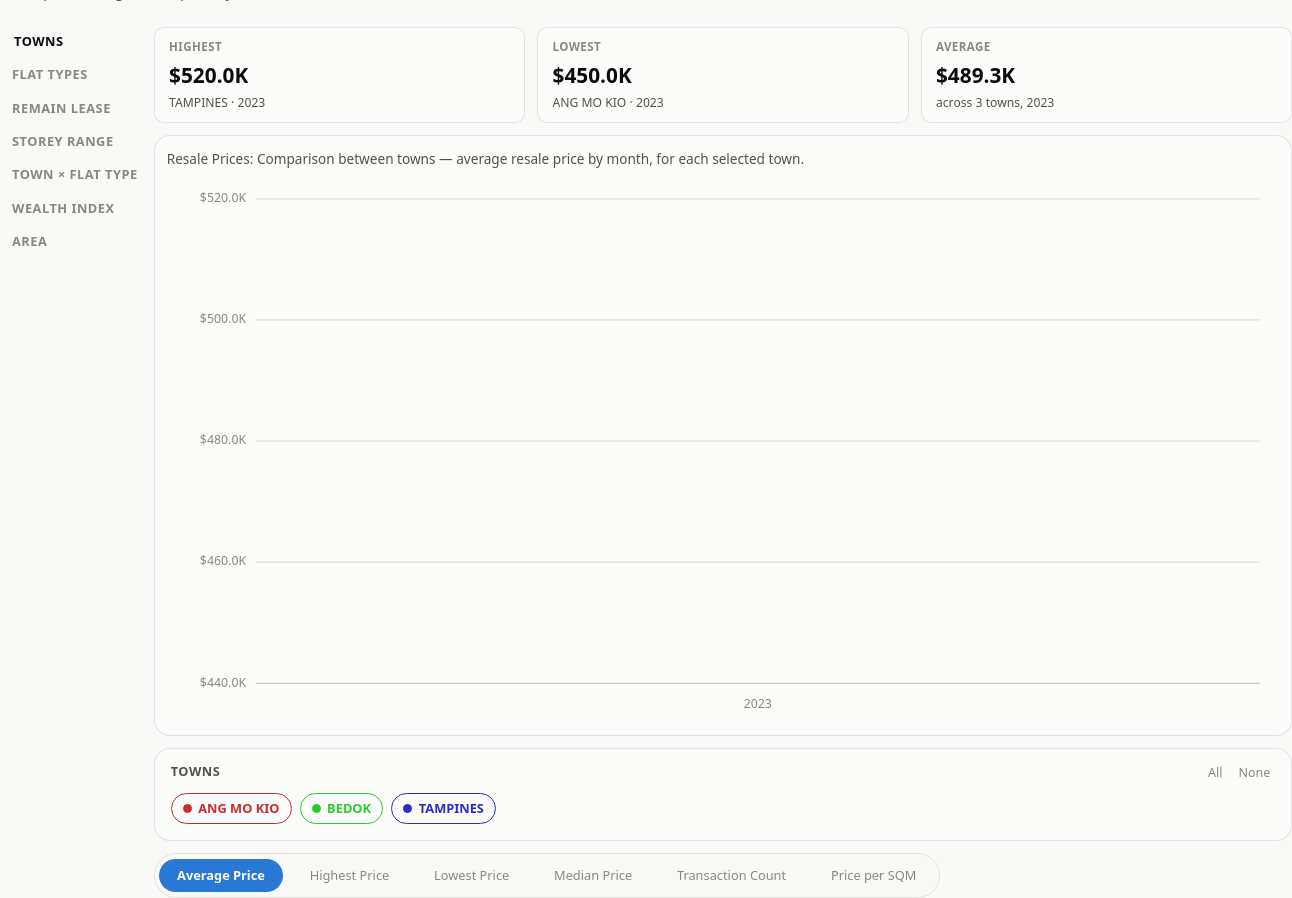
Scenario: InsightsPage › switches the Towns chart to the highest price view via the metric toggle
(page scrolled)
Expected: the button "BEDOK" is shown, [300,793,383,824]
Expected: the picture named "average resale price comparison between towns" is shown, [167,179,1279,723]
Click the button "Highest Price": coordinates (349, 876) [292,859,407,892]
(page scrolled)
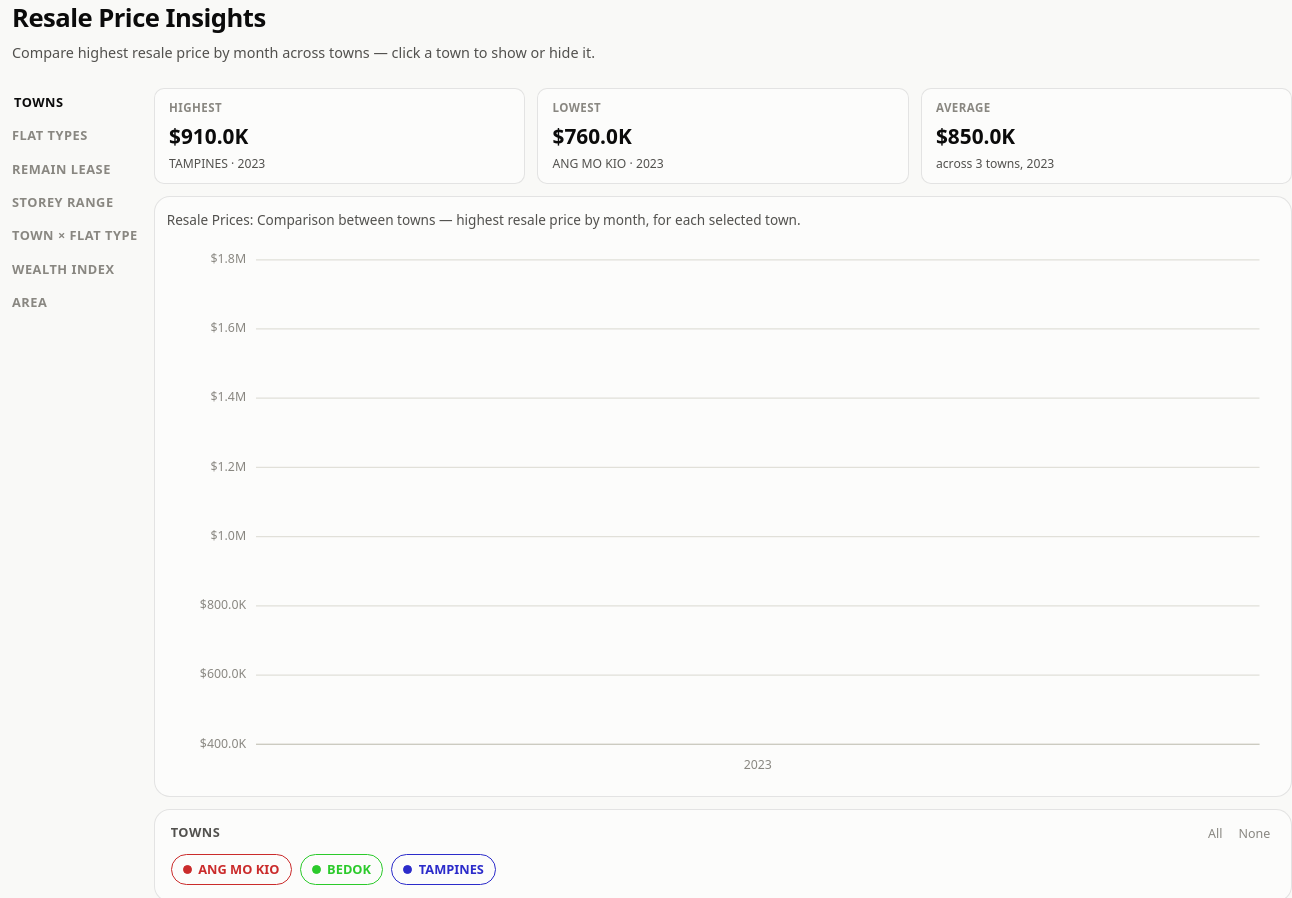
Expected: the picture named "highest resale price comparison between towns" is shown, [167,240,1279,784]
